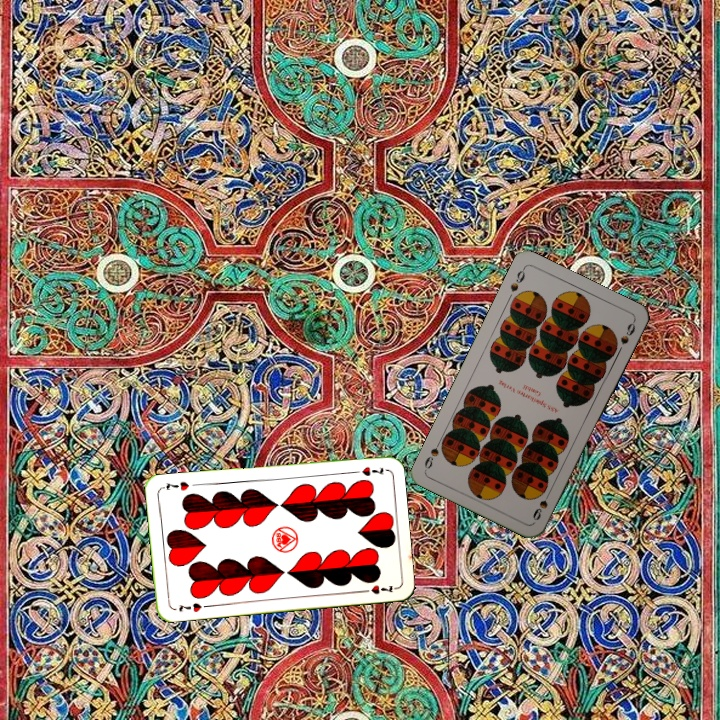H7: (347, 463, 386, 478), (175, 599, 211, 615)
S9: (529, 486, 553, 523), (506, 264, 528, 294)
